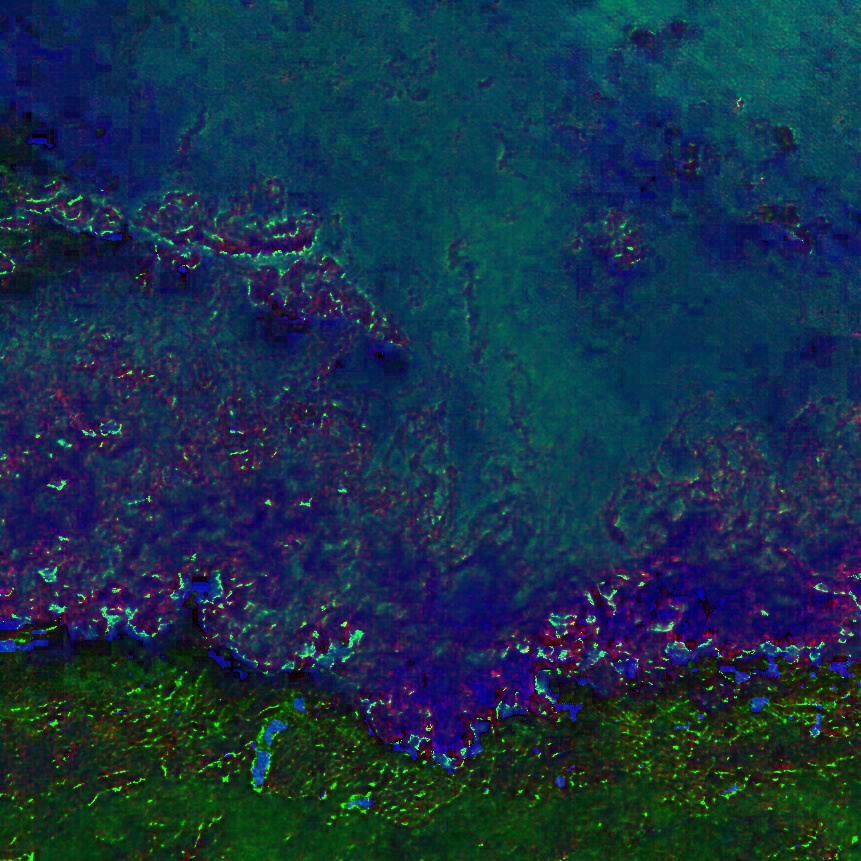rip_current: (306, 125, 659, 552)
